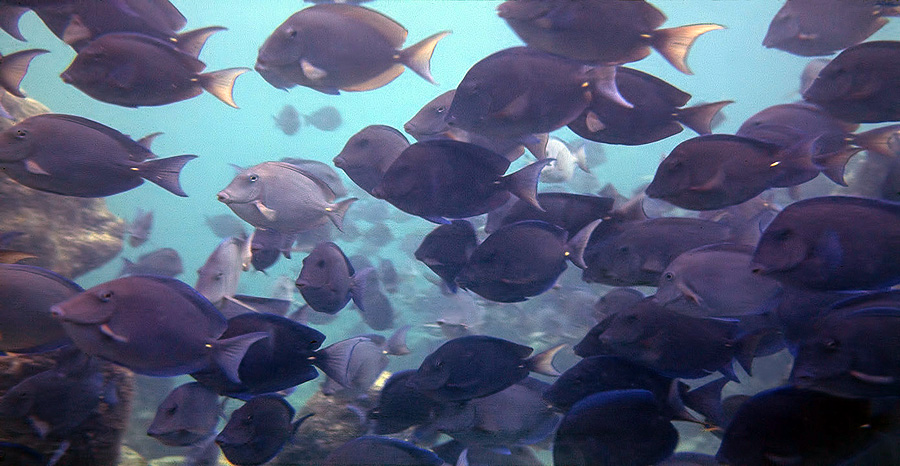Acanthurus_coeruleus: (2, 1, 894, 462)
